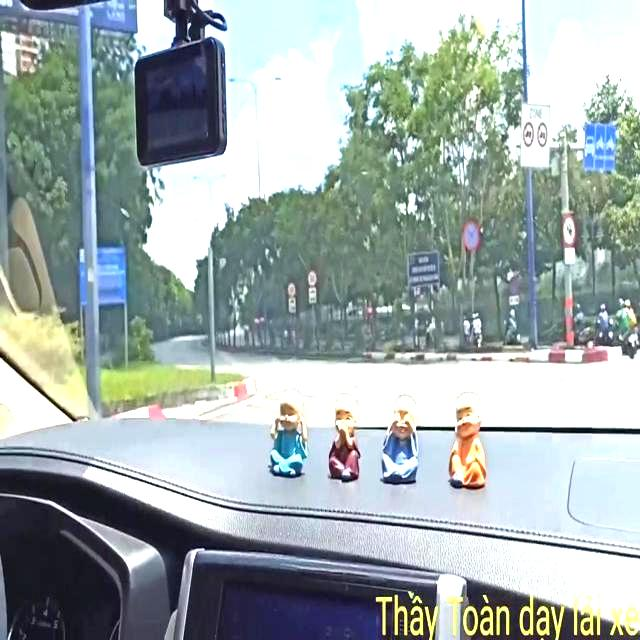Biển phụ: (560, 242, 578, 264), (307, 285, 318, 306), (288, 296, 296, 311)
Cấm các phương tiện hoạt động trong khung giờ cố định: (518, 95, 550, 173)
Cấm dừng - Cấm đỗ: (460, 213, 478, 250), (504, 274, 521, 297)
Cấm xe máy: (561, 216, 578, 244)
Giới hạn tốc độ: 60Km/h: (286, 276, 298, 298)
Giới hạn tốc độ: 80Km/h: (305, 265, 318, 287)
Khác: (77, 241, 125, 307), (403, 247, 442, 289)
Làn đường cho từng xe: (584, 122, 618, 170)
